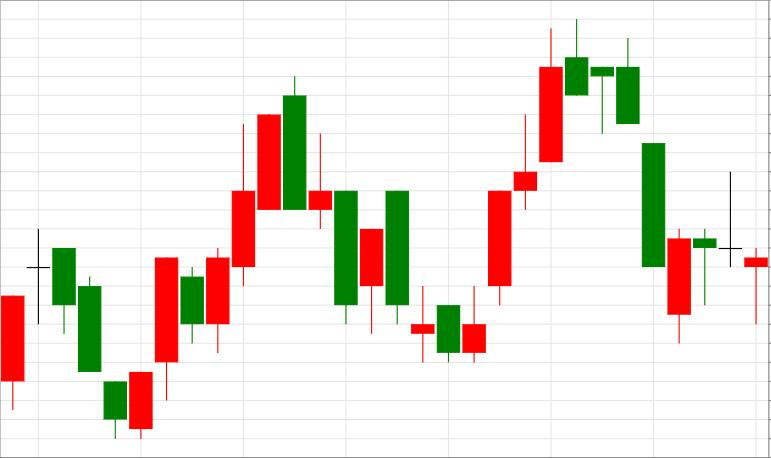bearish_engulfing_fall: (130, 76, 306, 439)
bullish_engulfing_rise: (27, 228, 152, 439)
inverse_hammer_rise: (284, 76, 485, 364)
three_white_soldiers_rise: (284, 29, 562, 363)
